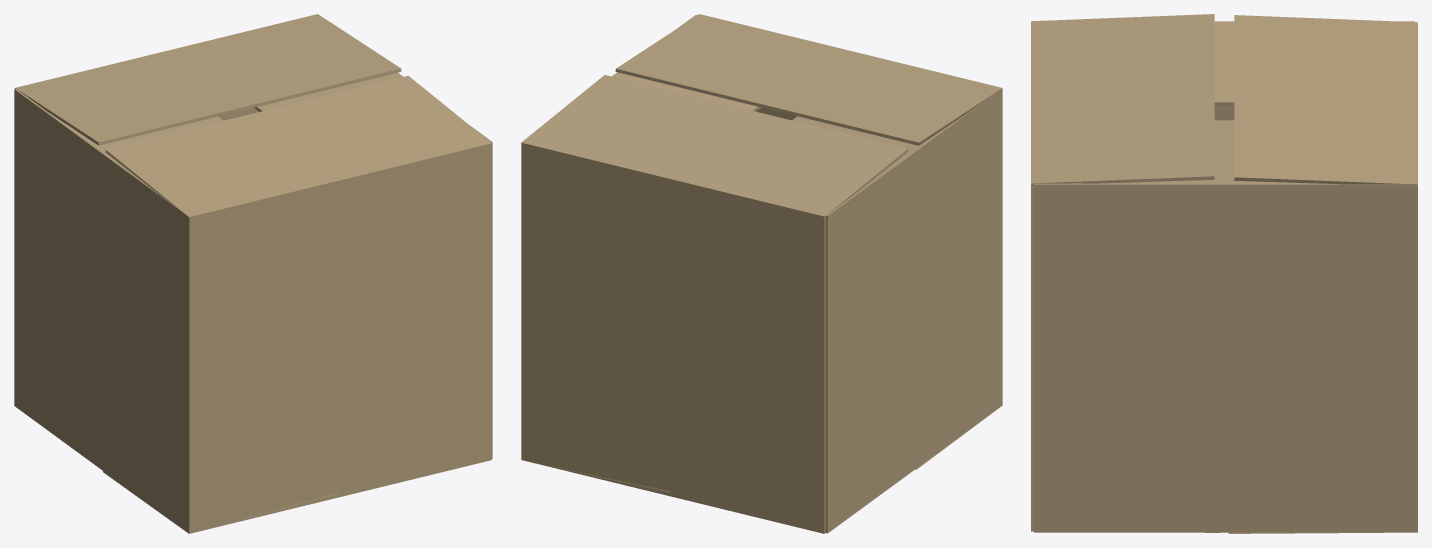
Rendered from CardboardBox1.fbx.
3 renders of one model, left to right at view 1: azimuth 30°, elevation 25°; view 2: azimuth 150°, elevation 25°; view 3: azimuth 270°, elevation 25°, orthographic. The views are drawn at different scales.
Parts seen in each view (by area): view 1: CardboarBox1; view 2: CardboarBox1; view 3: CardboarBox1.
Boxes of the visible parts, x1,y1,x2,y2 form: CardboarBox1: (14,14,492,533); CardboarBox1: (521,14,1002,533); CardboarBox1: (1031,14,1417,533).
Bounding box in the file's own units: 164 × 167 × 164.
